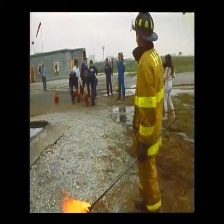fire: (59, 185, 92, 213)
